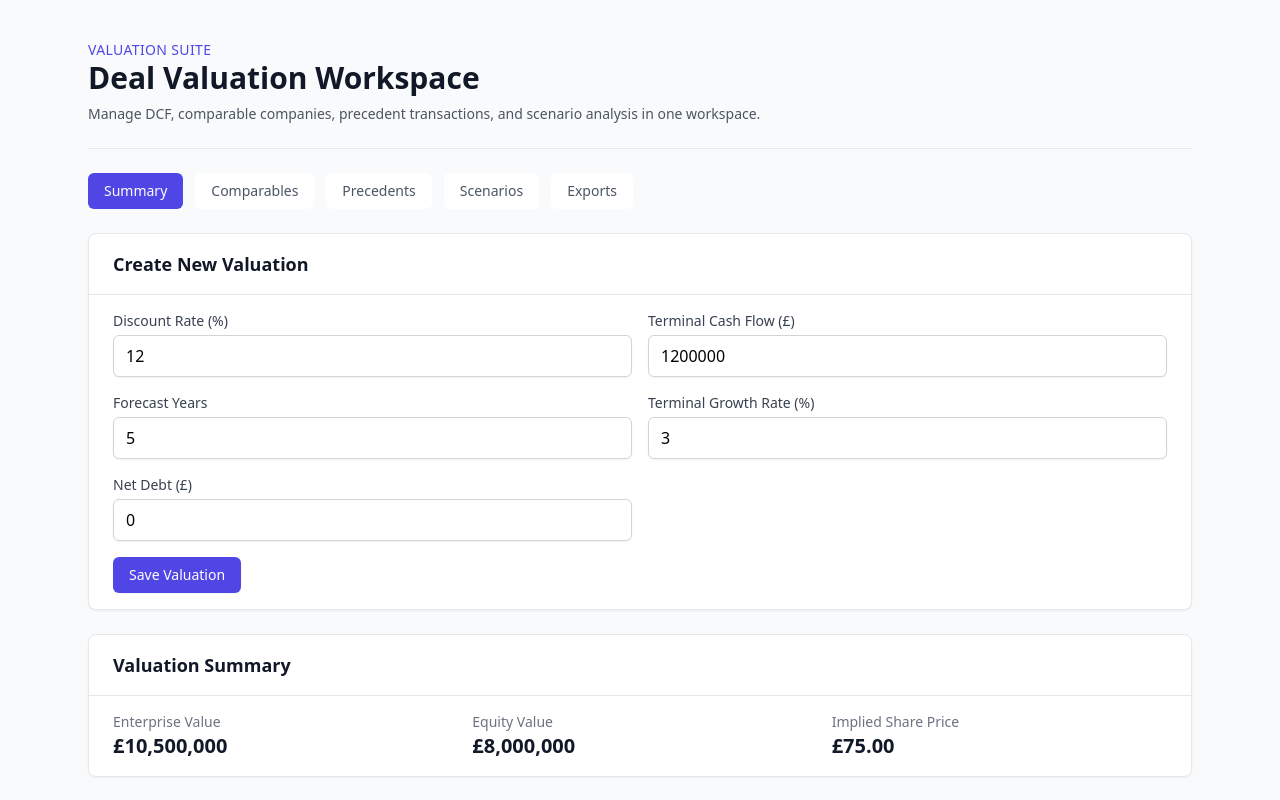
Test case: ValuationSuite RED tests › displays export history list with status badges and download links
This screenshot has width=1280, height=800.
expect the text "£10,500,000" is shown: met, box [113, 732, 227, 759]
Click the tab "Exports".
click(592, 191)  # box [551, 173, 633, 209]
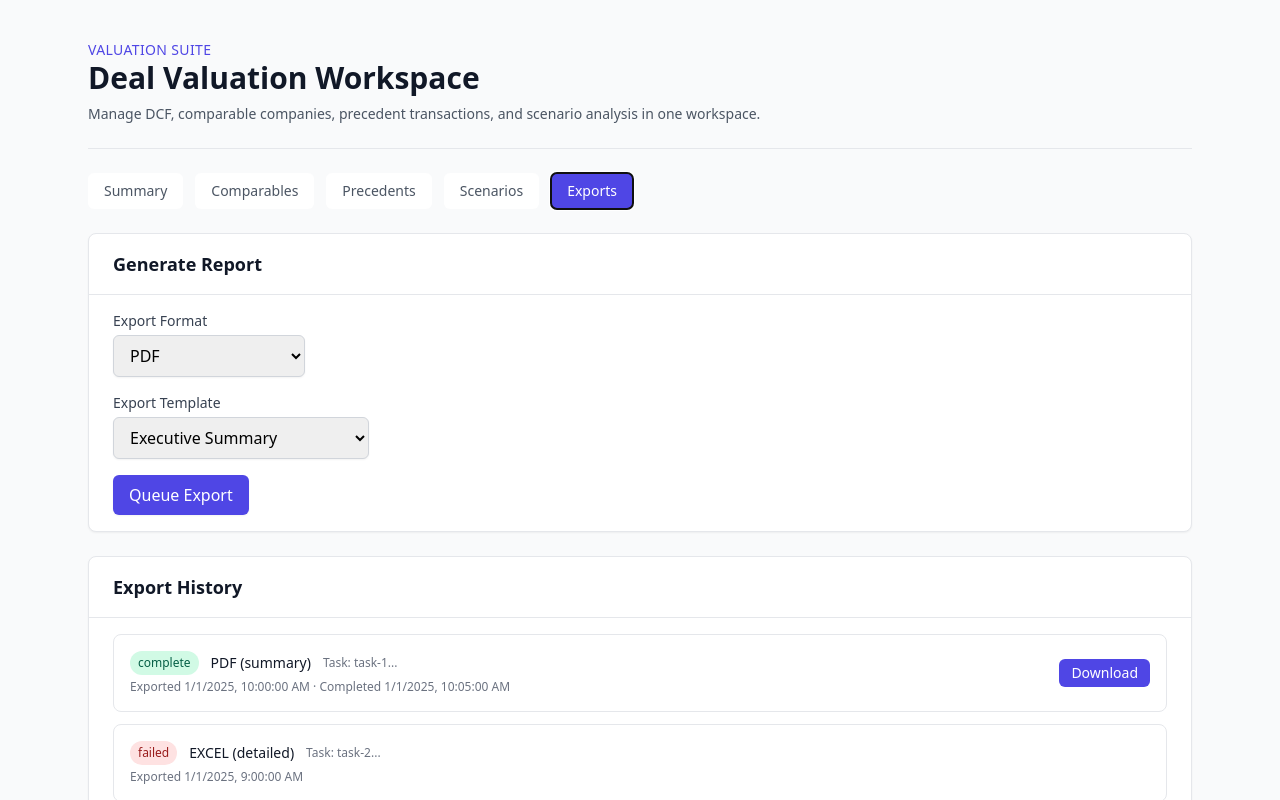
expect the heading "Export History" is shown: met, box [113, 575, 242, 599]
expect the text "complete PDF (summary) Task: task-1..." is shown: met, box [130, 651, 398, 675]
expect the text "complete" is shown: met, box [130, 651, 199, 675]
